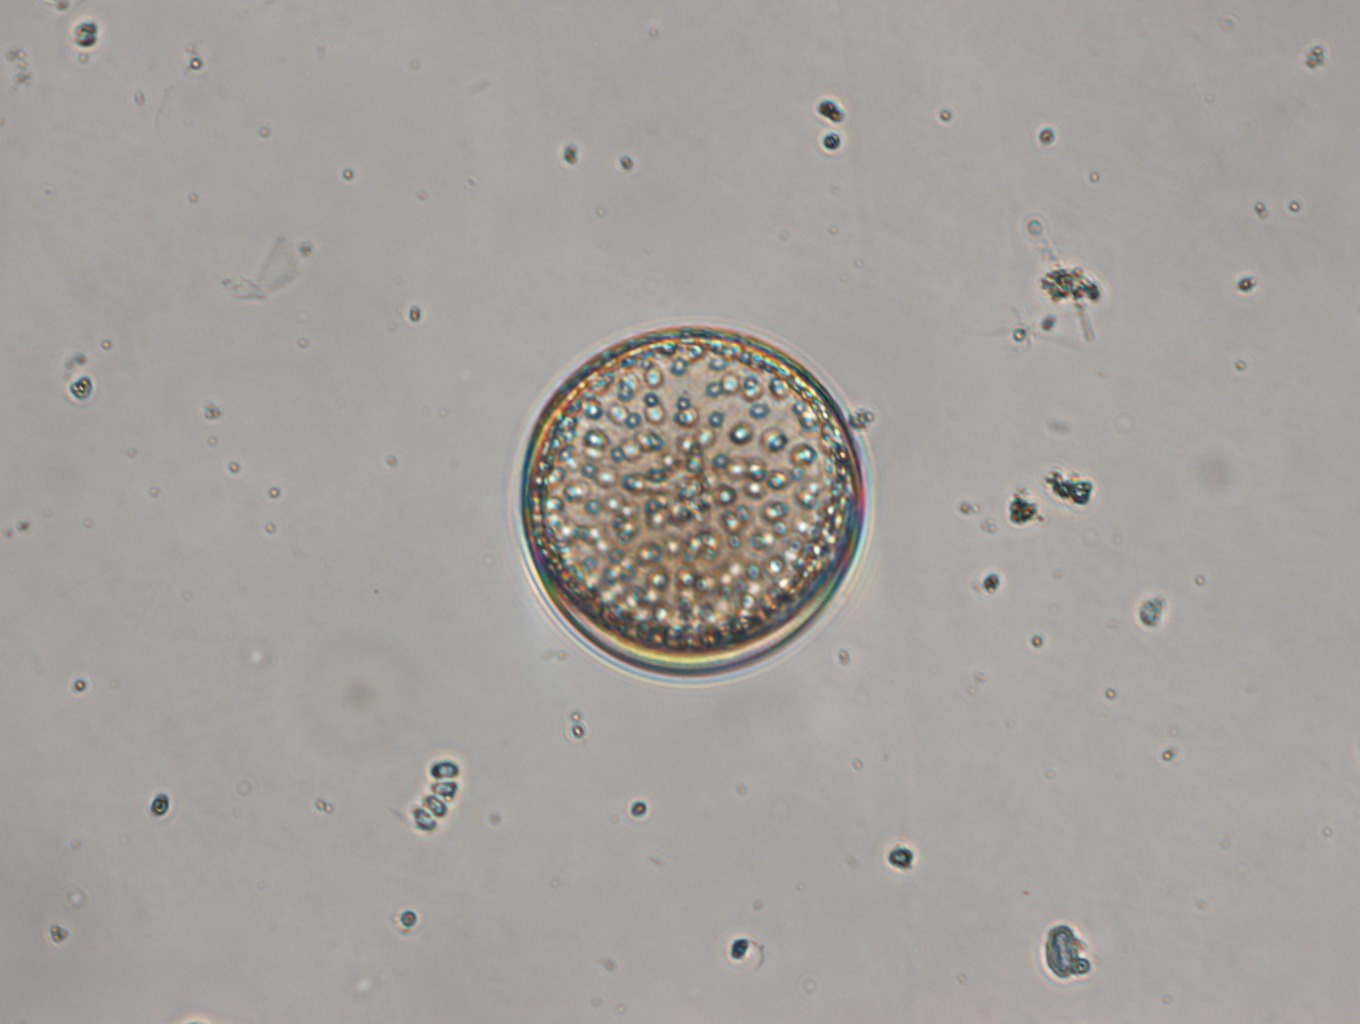coscinodiscus: (517, 324, 865, 675), (515, 322, 863, 673)
skeletonema: (410, 760, 461, 834)
